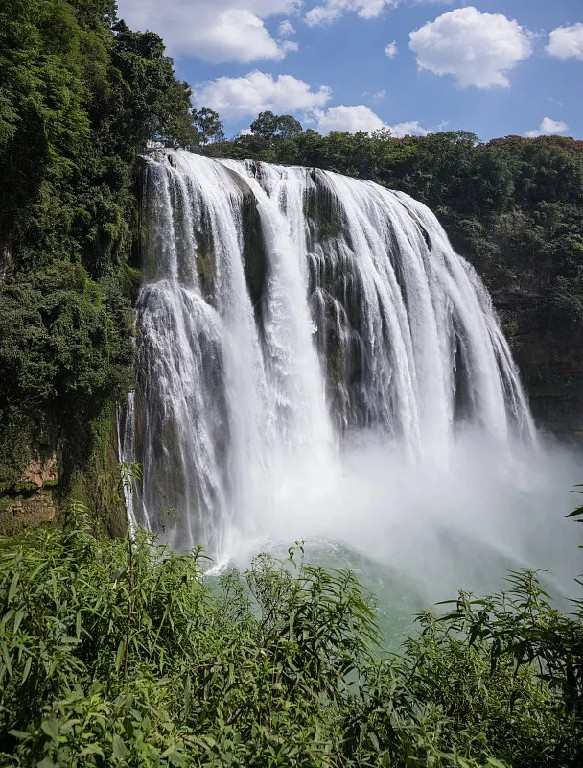Huangguoshu: (116, 142, 539, 544)
